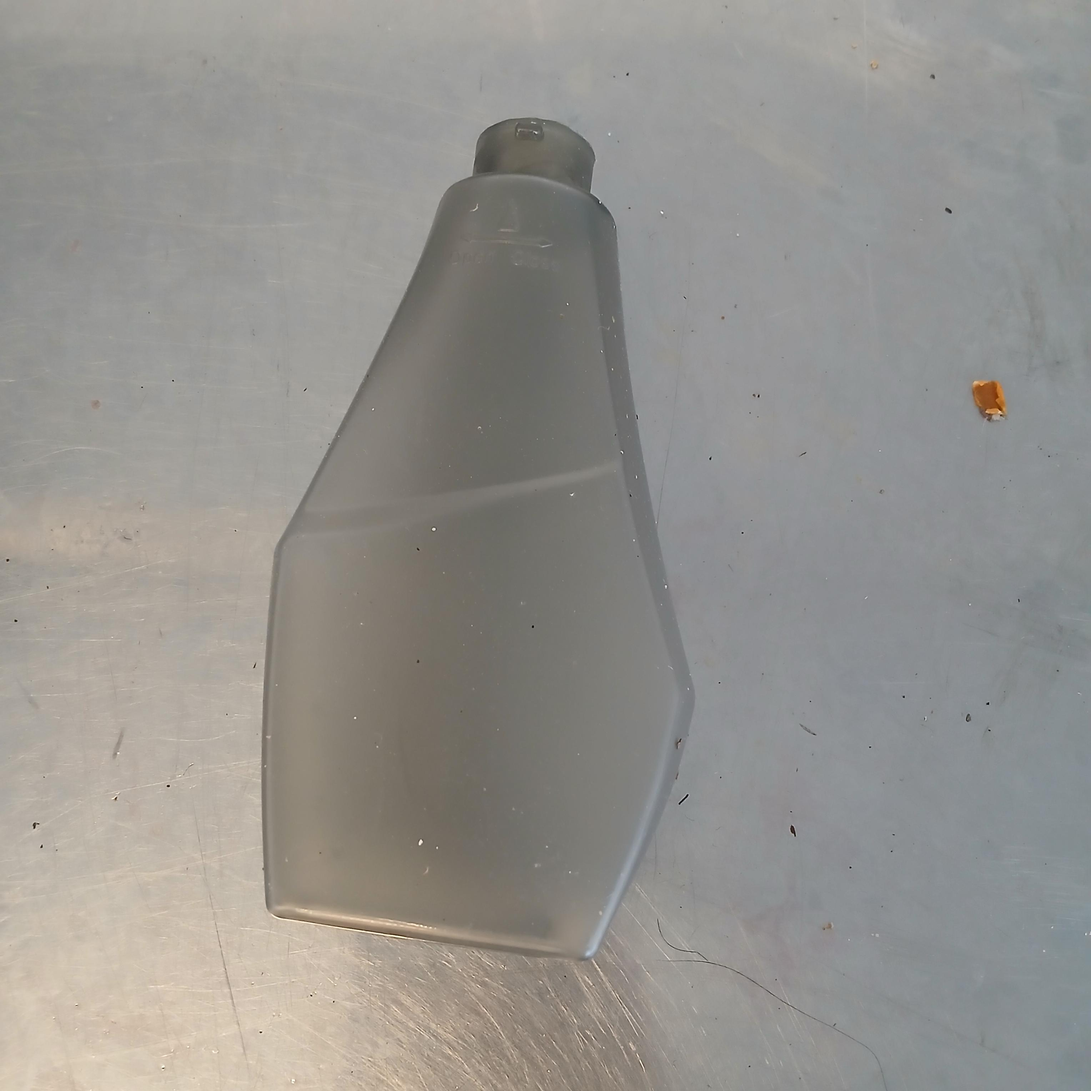Plastico: (265, 117, 695, 956)
